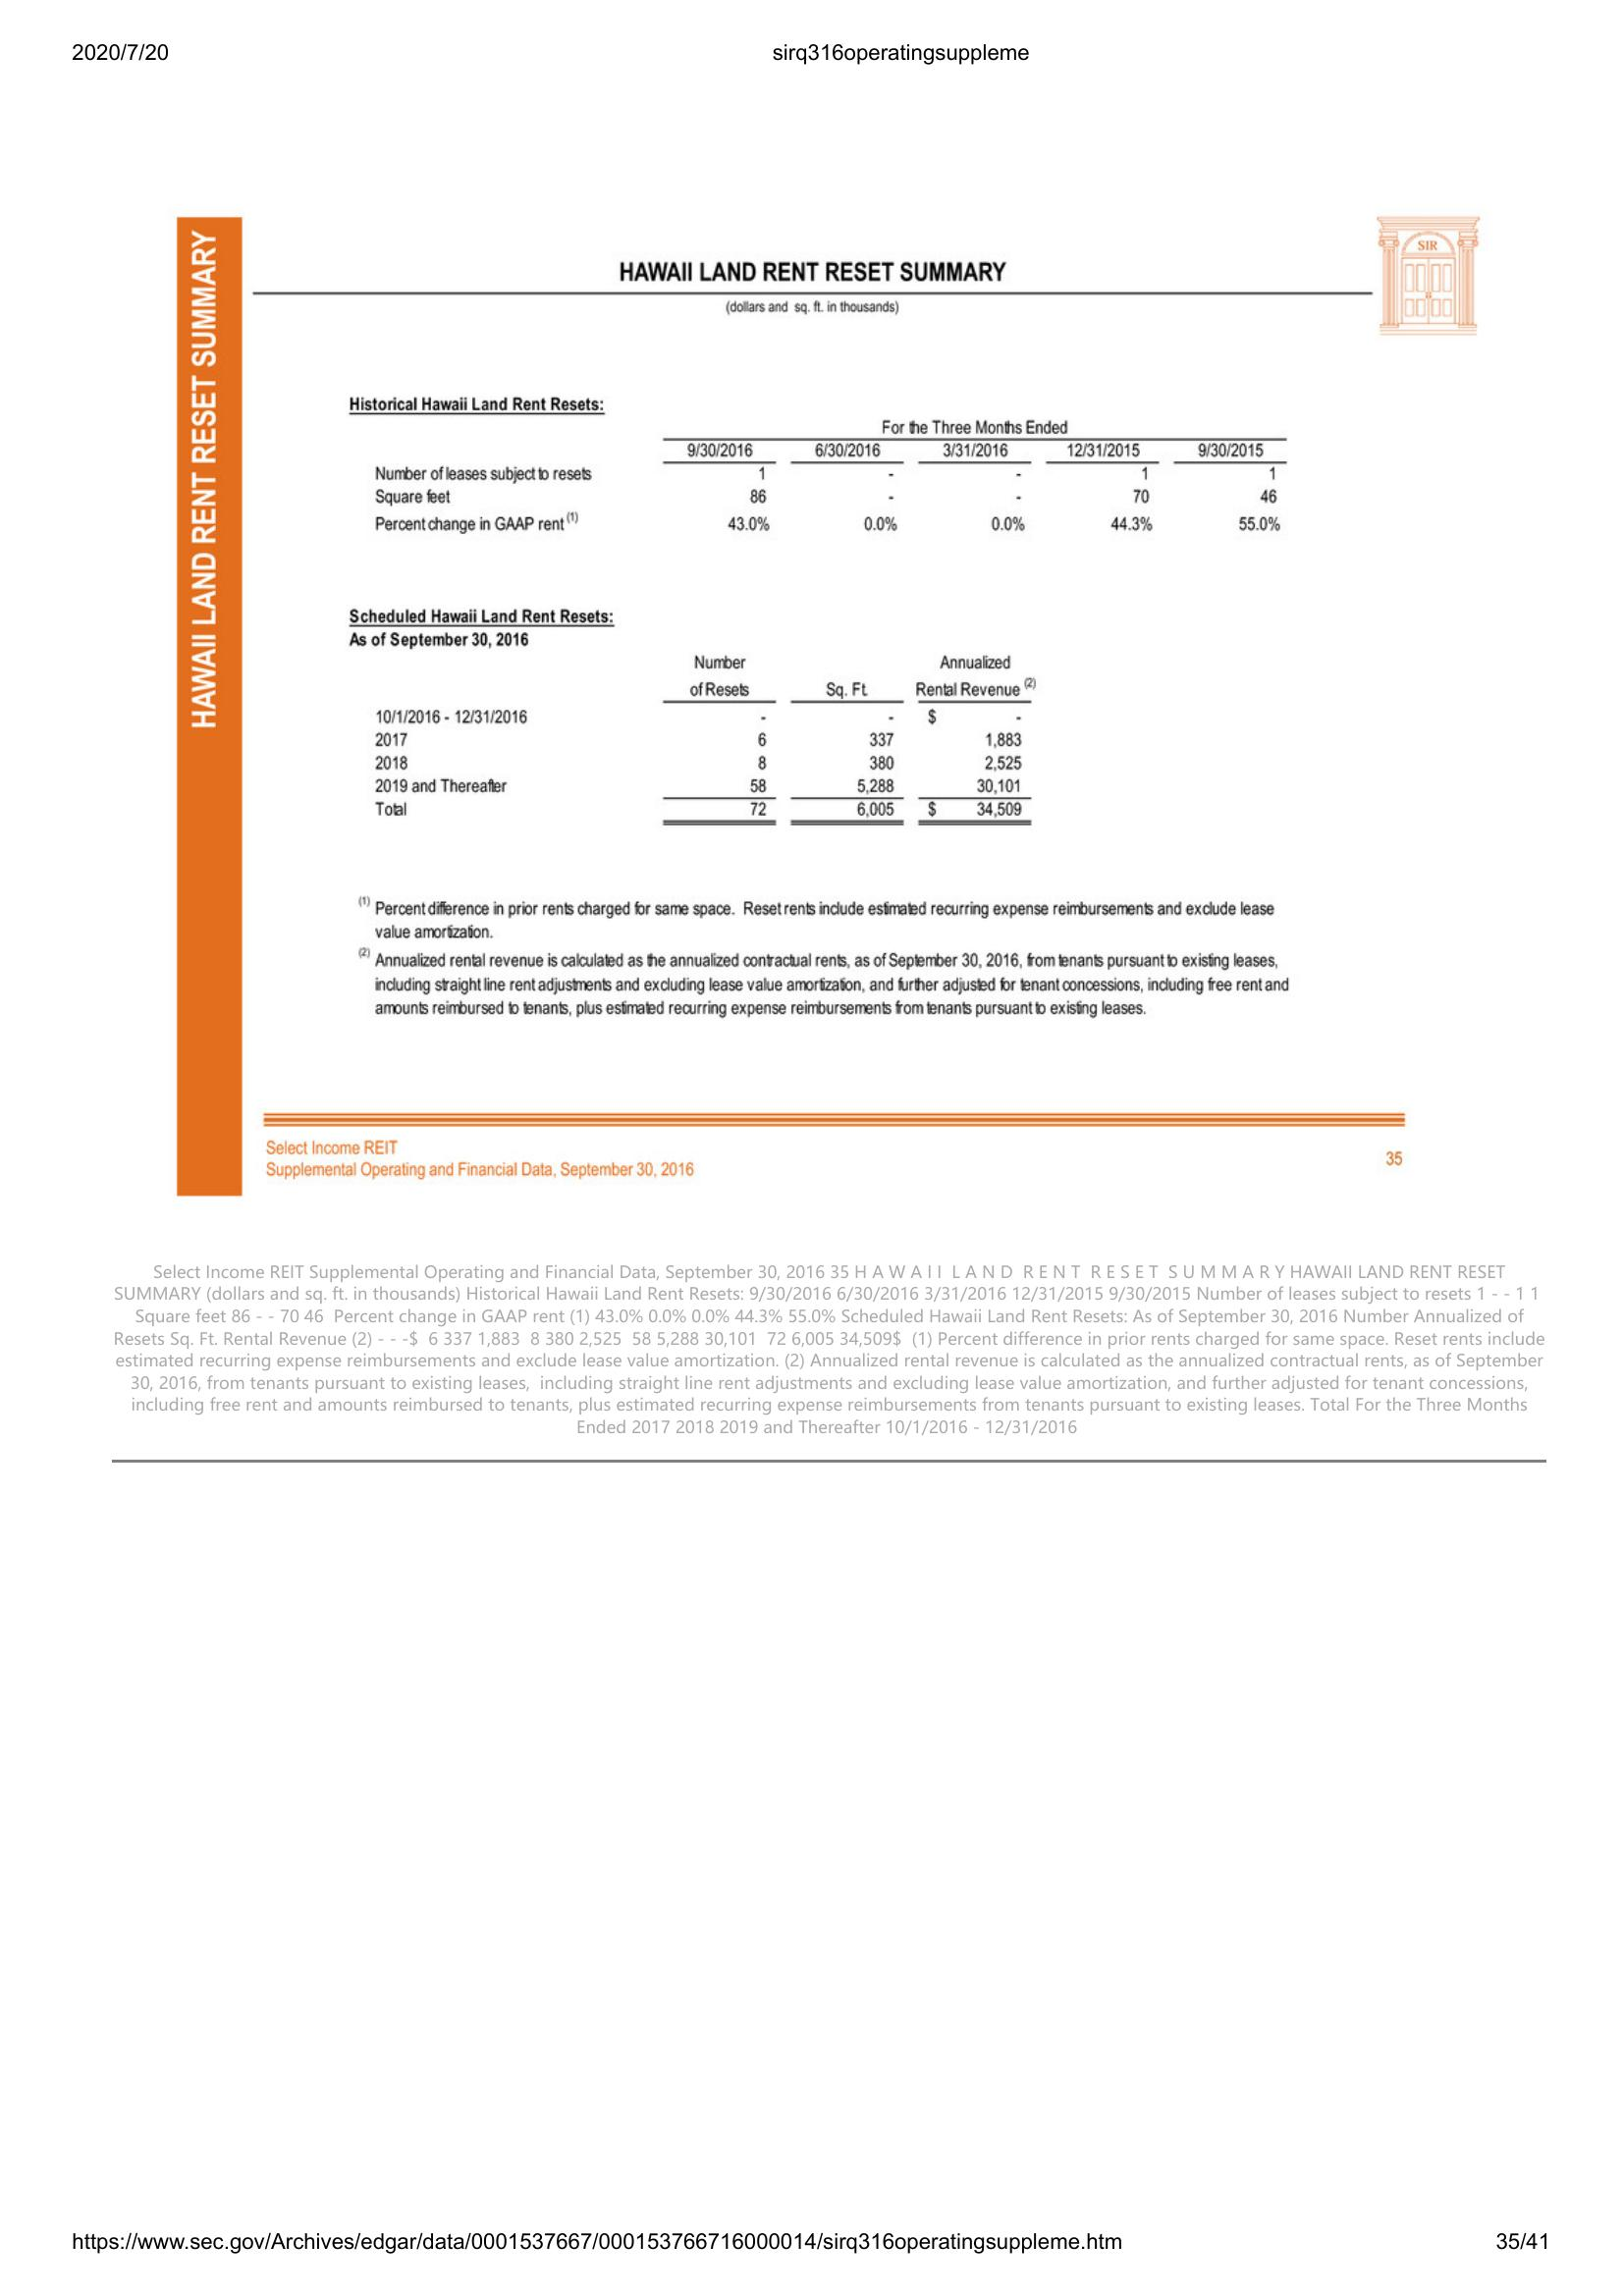table: (337, 384, 1293, 574), (367, 646, 1045, 839)
